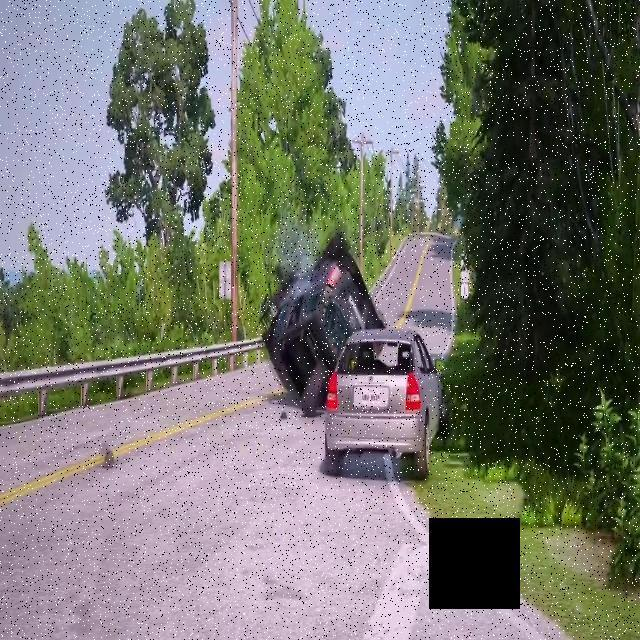normal: (317, 333, 437, 437)
single accident: (264, 219, 381, 394)
